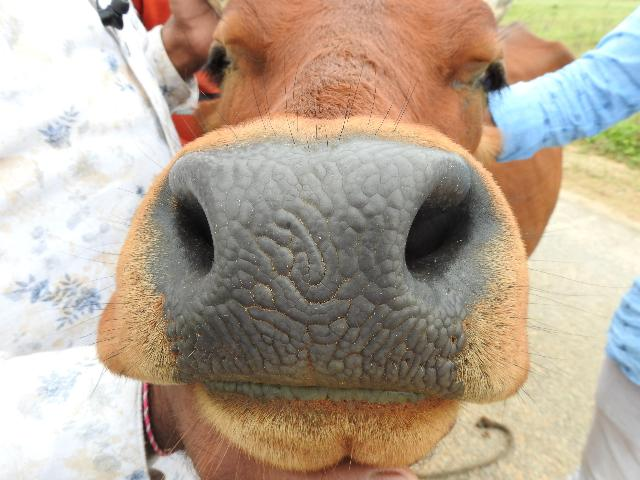Muzzle: (178, 145, 430, 387)
